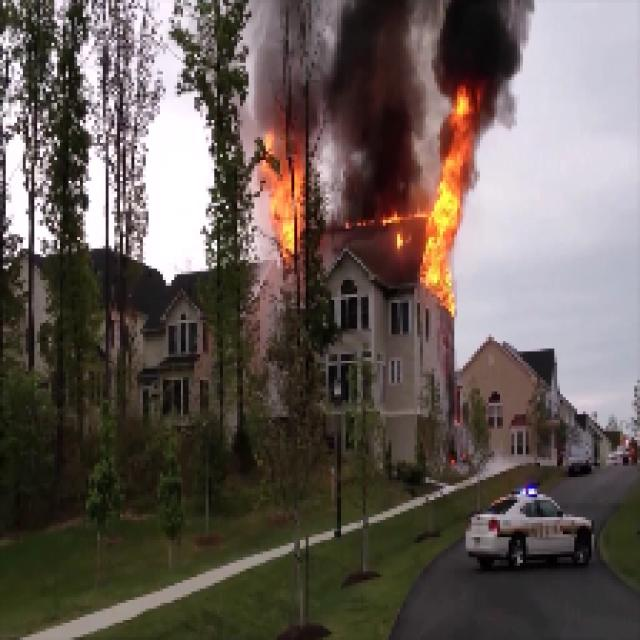fire: (438, 106, 468, 286), (257, 152, 299, 248)
smoke: (337, 7, 413, 219), (439, 2, 508, 99)
